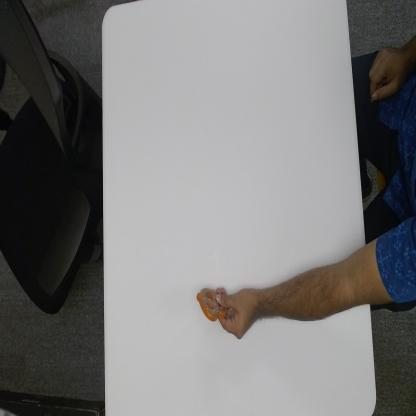Arm: (261, 227, 400, 324)
Hand: (219, 283, 261, 342)
Pretzel: (194, 280, 233, 327)
